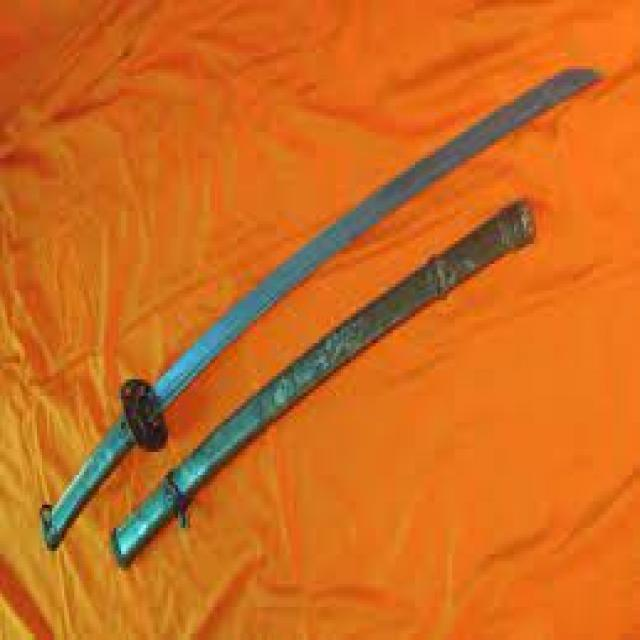long sword: (38, 61, 610, 552)
